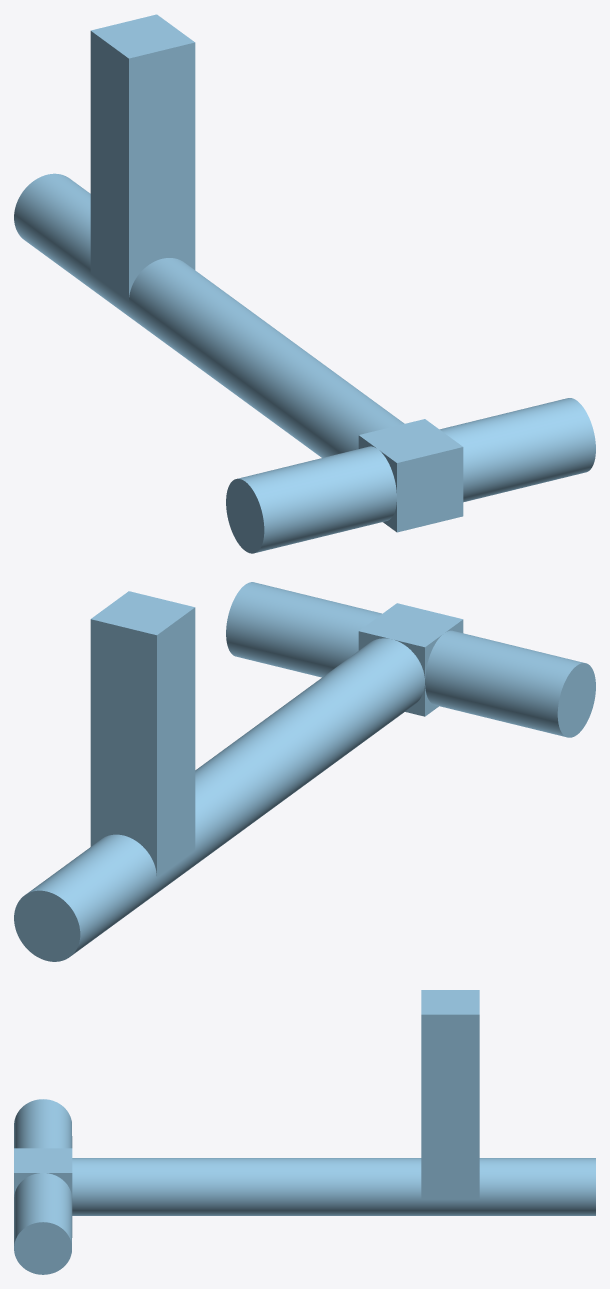
Rendered from Part Studio 1.obj.
3 renders of one model, top to bottom at view 1: azimuth 30°, elevation 25°; view 2: azimuth 150°, elevation 25°; view 3: azimuth 270°, elevation 25°, orthographic. The views are drawn at different scales.
Visible parts, largest first — view 1: mesh1, mesh5, mesh24, mesh22, mesh3, mesh19, mesh6, mesh18, mesh25; view 2: mesh1, mesh2, mesh24, mesh22, mesh3, mesh0, mesh6, mesh18, mesh25; view 3: mesh1, mesh4, mesh22, mesh24, mesh23, mesh6, mesh18.
Part boxes in pixels (x1,y1,x2,y2): mesh1: (14, 173, 404, 457); mesh5: (129, 42, 195, 296); mesh24: (238, 446, 396, 552); mesh22: (439, 398, 595, 502); mesh3: (90, 31, 128, 301); mesh19: (397, 447, 463, 532); mesh6: (91, 14, 194, 58); mesh18: (359, 419, 462, 462); mesh25: (226, 478, 264, 553); mesh1: (27, 638, 424, 955); mesh2: (90, 619, 156, 875); mesh24: (425, 630, 583, 737); mesh22: (226, 582, 381, 677); mesh3: (157, 607, 195, 877); mesh0: (14, 890, 80, 961); mesh6: (91, 591, 194, 635); mesh18: (359, 603, 462, 647); mesh25: (557, 663, 595, 737); mesh1: (72, 1158, 595, 1215); mesh4: (421, 1014, 479, 1199); mesh22: (14, 1173, 72, 1245); mesh24: (14, 1099, 72, 1148); mesh23: (14, 1222, 71, 1274); mesh6: (421, 990, 479, 1014); mesh18: (14, 1148, 72, 1172).
Bounding box in the file's own units: 0.127 × 0.1016 × 0.254.
